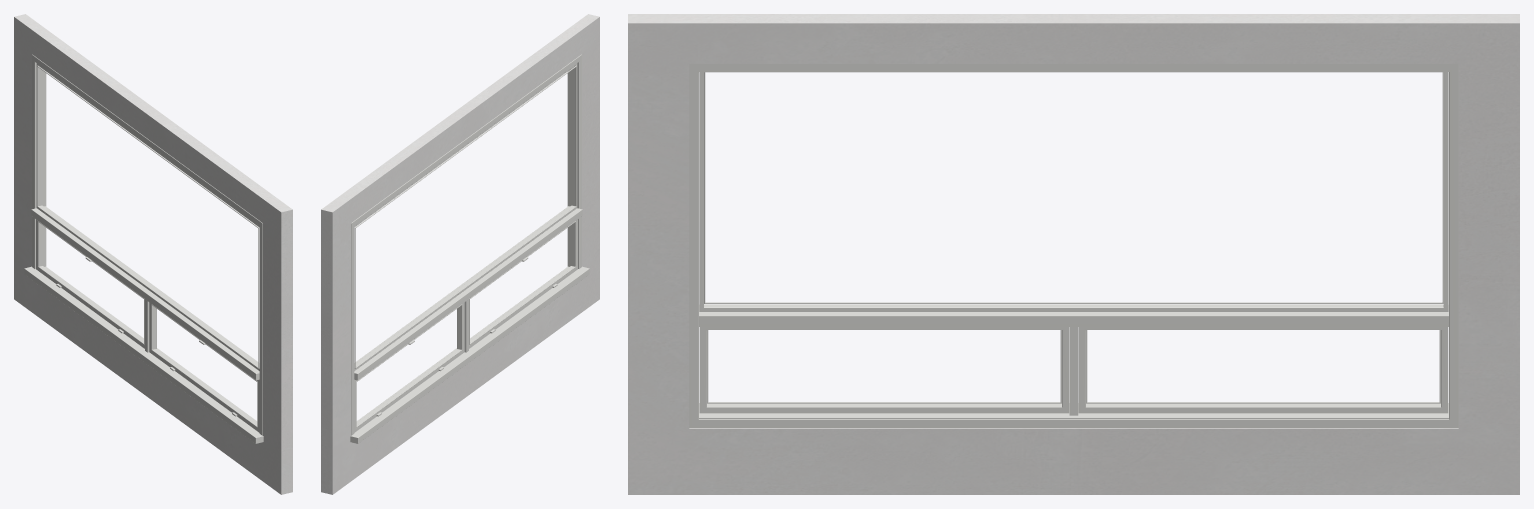
The model's file is wall_window.glb.
3 views of the same model, side by side, from view 1: azimuth 30°, elevation 25°; view 2: azimuth 150°, elevation 25°; view 3: azimuth 270°, elevation 25° (orthographic). The views are drawn at different scales.
Parts seen in each view (by area): view 1: Window wall, Window_Outer, Window_Deep_Sill, Window_Transom, Window_Upper_Uninterrupted, Window_Upper_Rebate, Window_Lower_Sash_1, Window_Lower_Sash_2, Window_Lower_Rebate_1, Window_Lower_Rebate_2; view 2: Window wall, Window_Outer, Window_Deep_Sill, Window_Transom, Window_Upper_Uninterrupted, Window_Upper_Rebate, Window_Lower_Sash_2, Window_Lower_Sash_1, Window_Lower_Rebate_2, Window_Lower_Rebate_1; view 3: Window wall, Window_Outer, Window_Transom, Window_Upper_Uninterrupted, Window_Lower_Sash_1, Window_Lower_Sash_2, Window_Deep_Sill, Window_Upper_Rebate, Window_Lower_Rebate_1, Window_Lower_Rebate_2.
Boxes of the visible parts, box(x1,y1,x2,y2) form: Window wall: box(14, 14, 292, 494); Window_Outer: box(32, 54, 262, 435); Window_Deep_Sill: box(24, 266, 263, 443); Window_Transom: box(31, 206, 259, 380); Window_Upper_Uninterrupted: box(36, 63, 259, 370); Window_Upper_Rebate: box(37, 65, 259, 368); Window_Lower_Sash_1: box(149, 302, 259, 432); Window_Lower_Sash_2: box(36, 219, 144, 348); Window_Lower_Rebate_1: box(151, 304, 257, 427); Window_Lower_Rebate_2: box(38, 221, 144, 344); Window wall: box(321, 14, 599, 494); Window_Outer: box(351, 54, 581, 435); Window_Deep_Sill: box(350, 266, 589, 443); Window_Transom: box(354, 206, 582, 380); Window_Upper_Uninterrupted: box(354, 63, 577, 370); Window_Upper_Rebate: box(354, 65, 576, 368); Window_Lower_Sash_2: box(354, 302, 464, 432); Window_Lower_Sash_1: box(469, 219, 577, 348); Window_Lower_Rebate_2: box(356, 304, 462, 427); Window_Lower_Rebate_1: box(469, 221, 575, 344); Window wall: box(628, 14, 1519, 494); Window_Outer: box(689, 64, 1458, 427); Window_Transom: box(699, 305, 1448, 326); Window_Upper_Uninterrupted: box(699, 72, 1448, 311); Window_Lower_Sash_1: box(699, 327, 1069, 413); Window_Lower_Sash_2: box(1078, 327, 1448, 413); Window_Deep_Sill: box(699, 403, 1448, 418); Window_Upper_Rebate: box(704, 72, 1443, 303); Window_Lower_Rebate_1: box(707, 330, 1061, 403); Window_Lower_Rebate_2: box(1086, 330, 1440, 403).
Bounding box in the file's own units: 0.2 × 2.8 × 4.8.
Materials: 2 (1 with a texture image).
